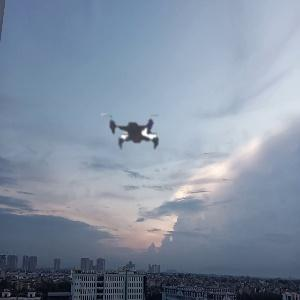drone: (84, 81, 189, 186)
